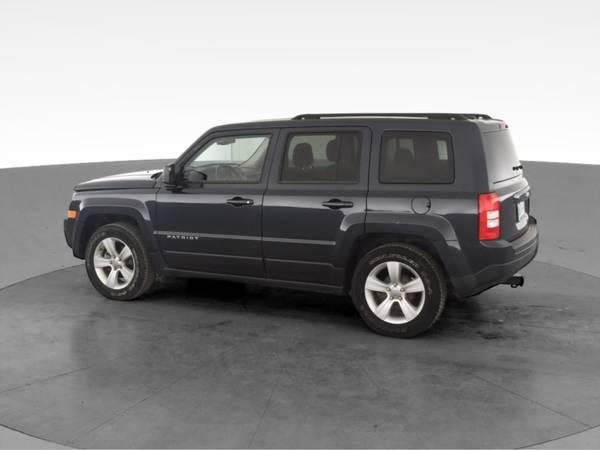Front_Fender: (63, 185, 169, 271)
Front_Left_Door: (157, 184, 269, 286)
Front_Left_Window: (170, 134, 278, 184)
Left_Taillight: (481, 191, 502, 240)
Rear_Bumper: (434, 217, 544, 294)
Rear_Fender: (367, 125, 481, 239)
Rear_Left_Door: (261, 185, 368, 294)
Rear_Left_Window: (269, 129, 373, 183)
Rear_Windshield: (485, 132, 523, 187)
Roof: (166, 115, 514, 191)
Tailgate: (491, 178, 535, 241)
Wheel: (350, 239, 447, 333), (84, 221, 154, 300)
